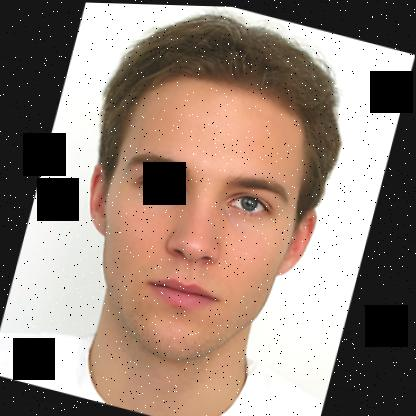Male: (53, 52, 346, 389)
